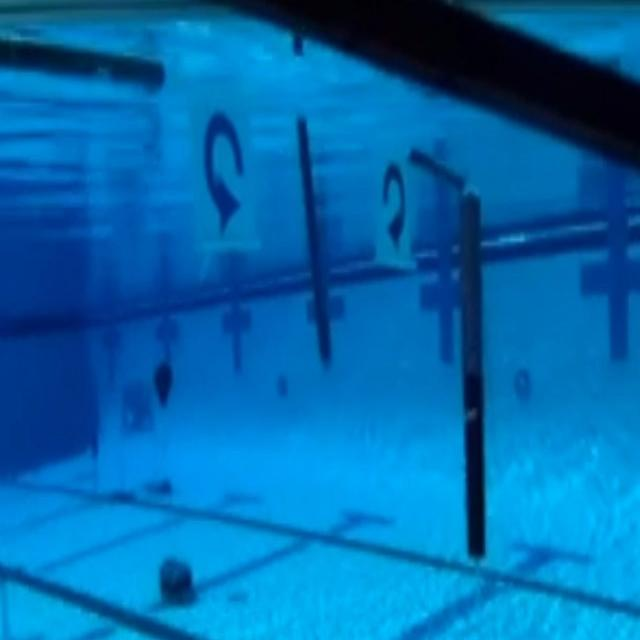Gate: (4, 29, 495, 564)
